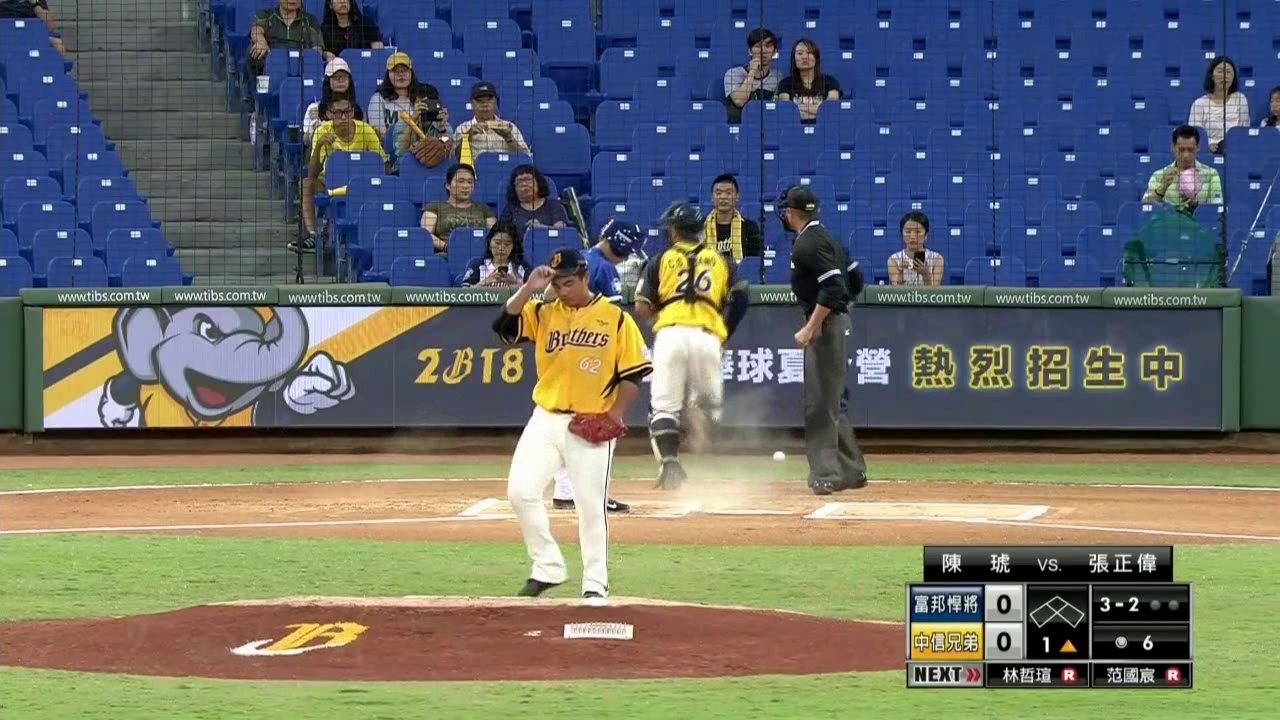ball: (773, 451, 786, 461)
base: (1025, 586, 1089, 634)
bat: (563, 185, 592, 251)
out: (1145, 594, 1183, 619)
score1: (988, 583, 1022, 621)
score2: (991, 624, 1021, 657)
session: (1027, 634, 1084, 659)
strikeball: (1097, 588, 1141, 617)
total: (1108, 627, 1158, 656)
